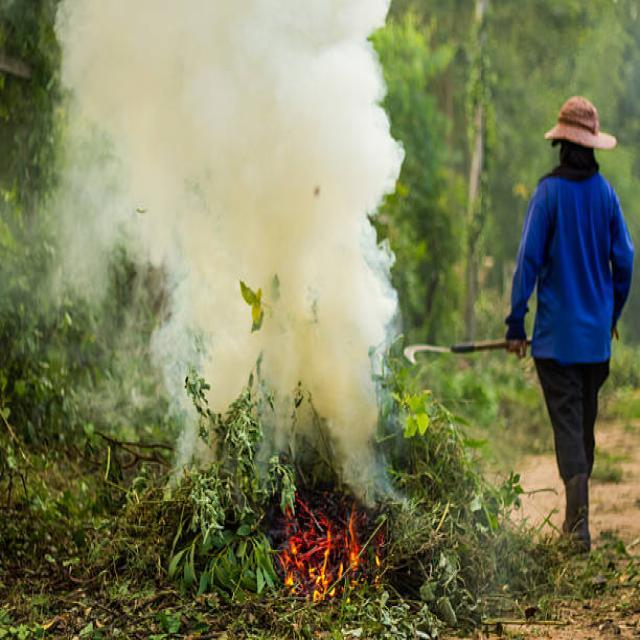Fire: (272, 500, 388, 606)
Smoke: (41, 0, 400, 502)
